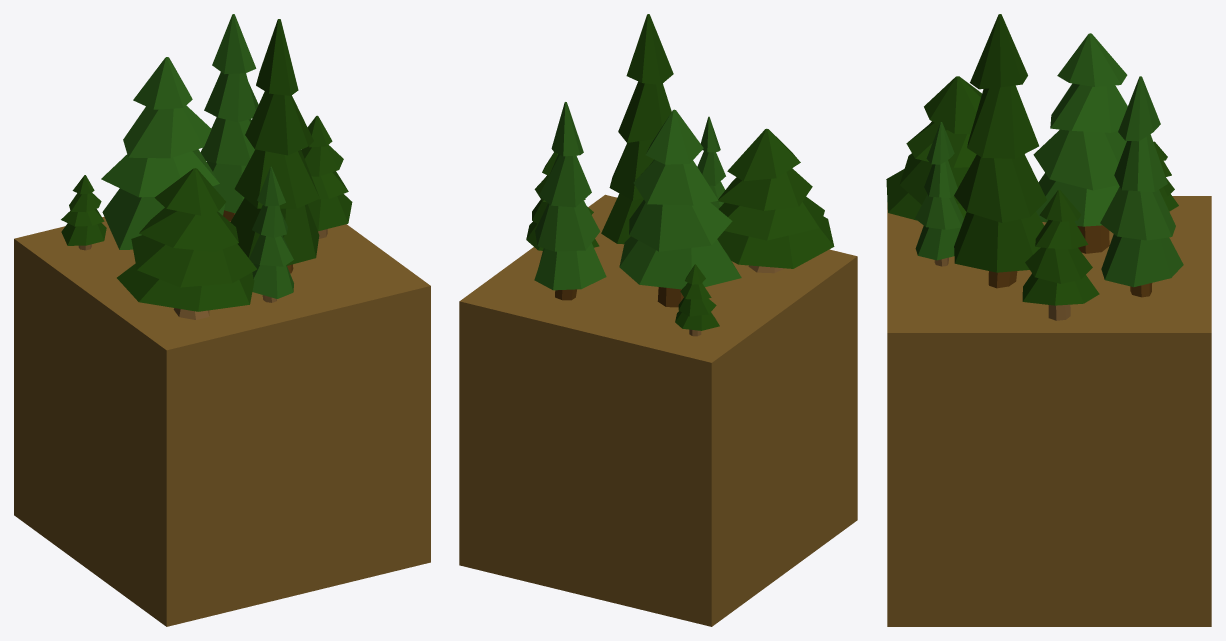
Rendered from TileGozd1.fbx.
3 views of the same model, side by side, from view 1: azimuth 30°, elevation 25°; view 2: azimuth 150°, elevation 25°; view 3: azimuth 270°, elevation 25° (orthographic). The views are drawn at different scales.
Parts seen in each view (by area): view 1: Cylinder.001; view 2: Cylinder.001; view 3: Cylinder.001.
Part boxes in pixels (left/top/right/bottom): Cylinder.001: left=14, top=14, right=430, bottom=626; Cylinder.001: left=459, top=14, right=857, bottom=626; Cylinder.001: left=886, top=14, right=1211, bottom=626.
Bounding box in the file's own units: 202 × 382 × 200.
